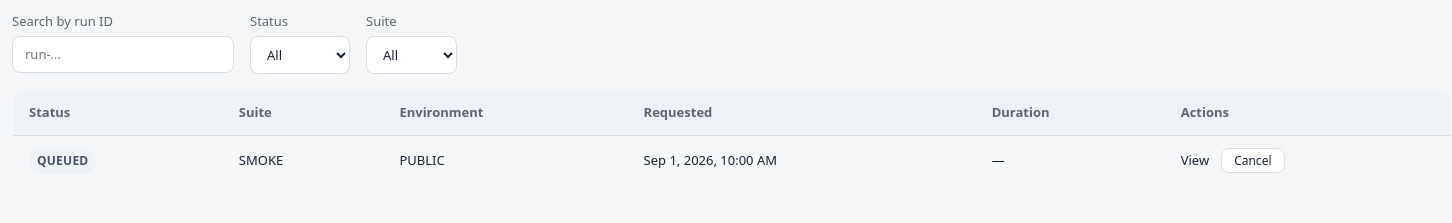
Test: RunsTable › shows a distinct empty state when filters/search match nothing
Type "no-such-run" into the search field labelled "Search by run ID". click: (123, 54)
box: [12,36,234,73]
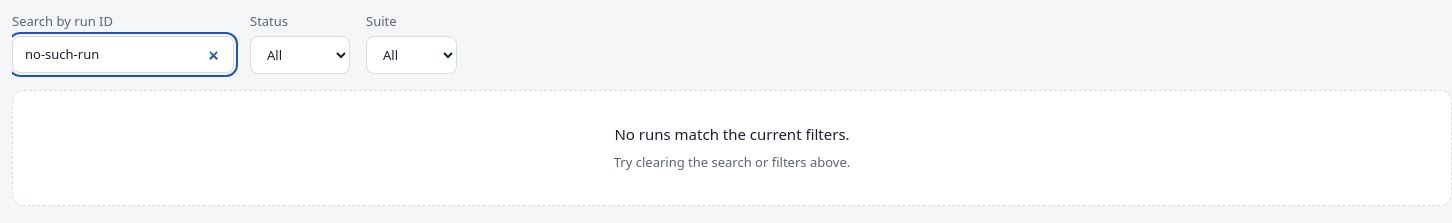
Check: the text "No runs match the current filters." is shown, box [614,124,850,144]
